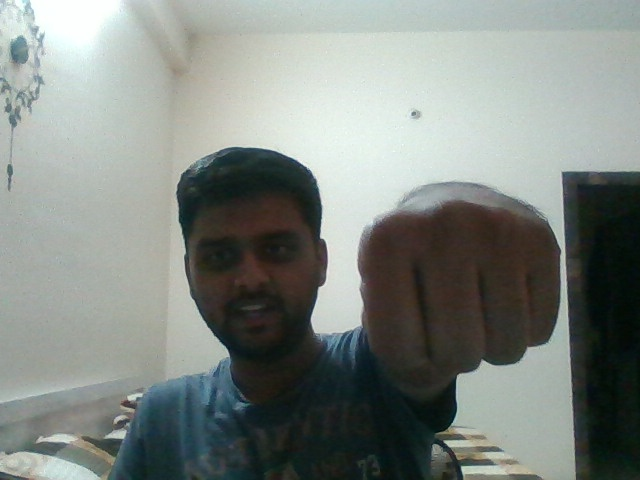yes: (340, 142, 599, 401)
